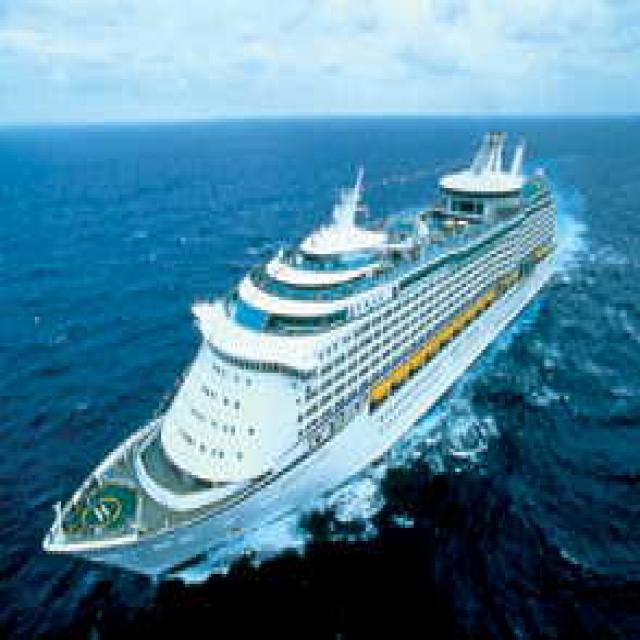PassengerShip: (56, 116, 604, 618)
